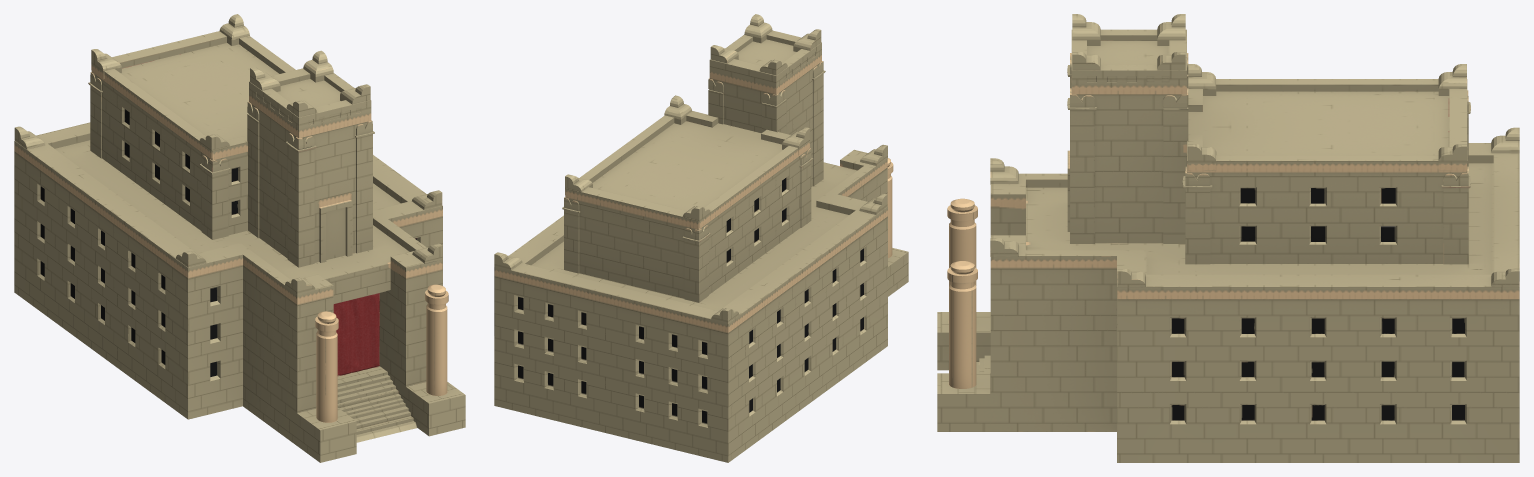
File: Solomon's Tample-bl.obj
The picture shows the model from 3 angles, left to right: view 1: azimuth 30°, elevation 25°; view 2: azimuth 150°, elevation 25°; view 3: azimuth 270°, elevation 25°; orthographic projection. The views are drawn at different scales.
Parts seen in each view (by area): view 1: Tample_HP_Cube.001; view 2: Tample_HP_Cube.001; view 3: Tample_HP_Cube.001.
Boxes of the visible parts, x1,y1,x2,y2 form: Tample_HP_Cube.001: [14, 14, 465, 462]; Tample_HP_Cube.001: [494, 14, 908, 462]; Tample_HP_Cube.001: [937, 14, 1519, 462].
Bounding box in the file's own units: 3.35 × 3.87 × 5.73.
